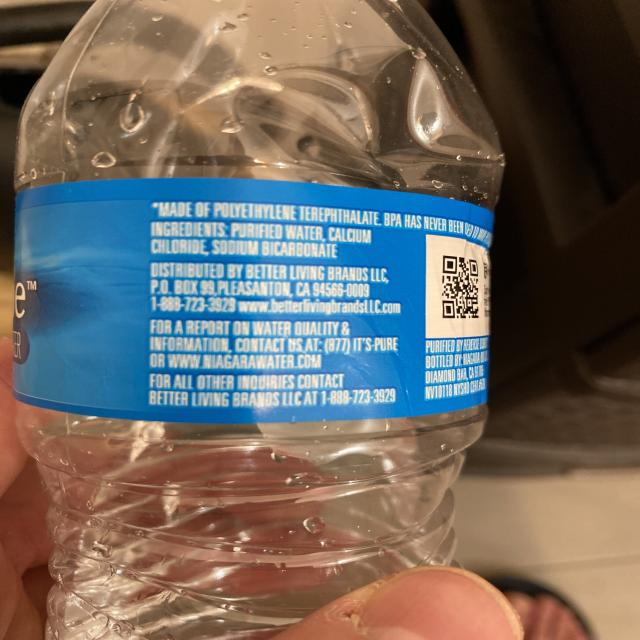plastic_bottle: (11, 1, 507, 638)
